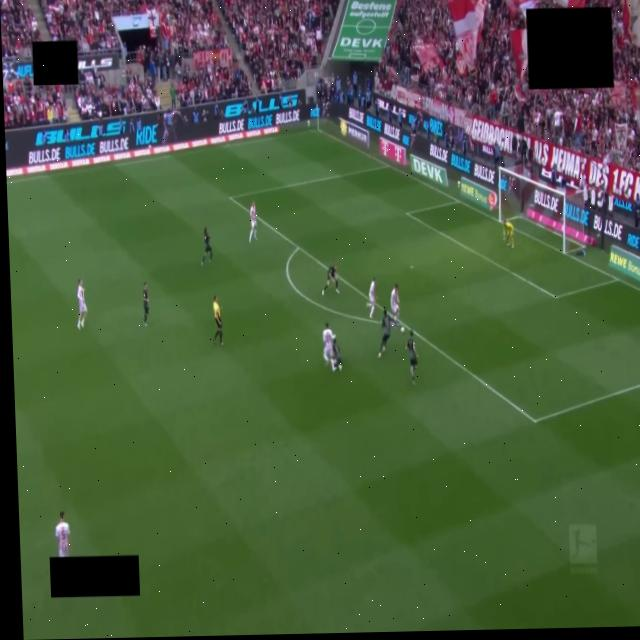ball: (400, 327, 405, 332)
player: (390, 284, 404, 332), (378, 310, 392, 358), (75, 279, 88, 330), (405, 331, 417, 384), (56, 511, 69, 557), (321, 263, 339, 295), (201, 228, 213, 266), (323, 322, 334, 363), (579, 169, 589, 204), (332, 337, 342, 371), (368, 278, 376, 319), (249, 203, 257, 243), (504, 220, 514, 247), (143, 283, 149, 325)
referee: (213, 296, 222, 345)
